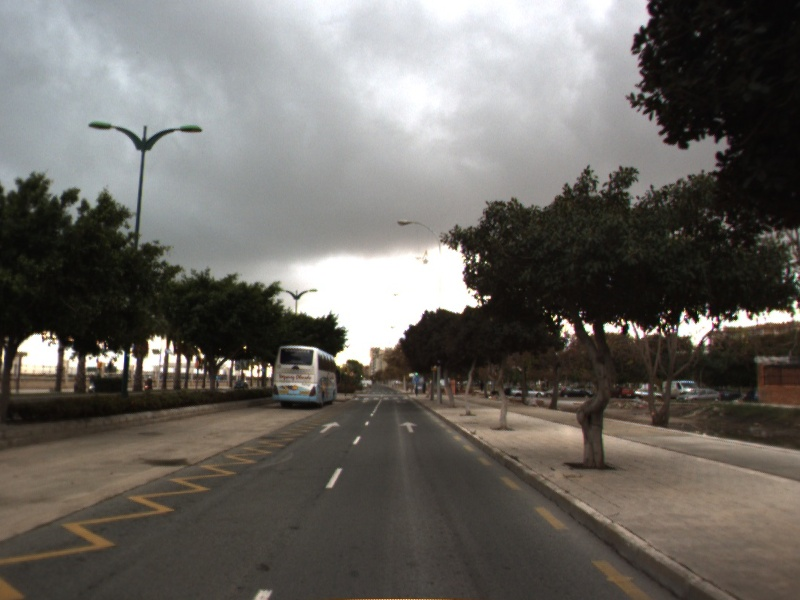STRAIGHT: (318, 420, 343, 435), (397, 420, 420, 434)
